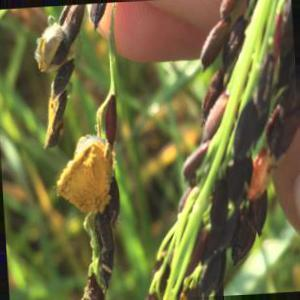Leaf_Scald: (56, 140, 108, 210)
